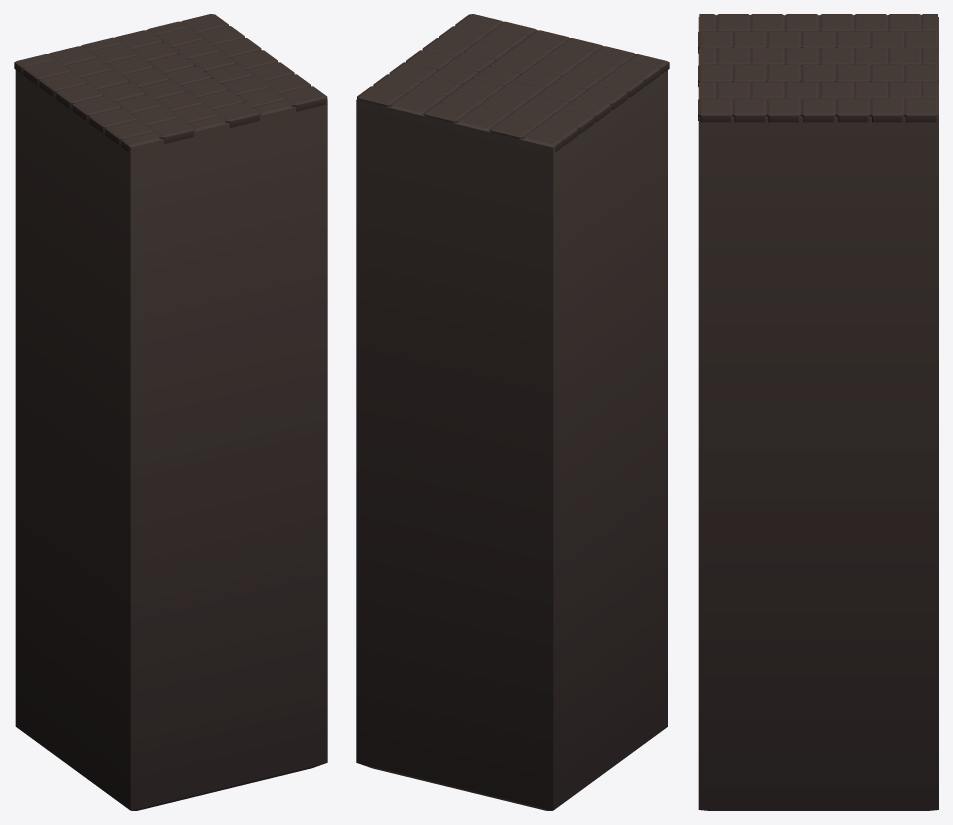
The model's file is dungeonkit_stone_floor.fbx.
3 views of the same model, side by side, from view 1: azimuth 30°, elevation 25°; view 2: azimuth 150°, elevation 25°; view 3: azimuth 270°, elevation 25° (orthographic). The views are drawn at different scales.
Parts seen in each view (by area): view 1: Cube.076; view 2: Cube.076; view 3: Cube.076.
Boxes of the visible parts, x1,y1,x2,y2 form: Cube.076: (14, 14, 327, 810); Cube.076: (356, 14, 669, 810); Cube.076: (698, 14, 938, 810).
Size of the model in its own units: 685 by 2205 by 685.
